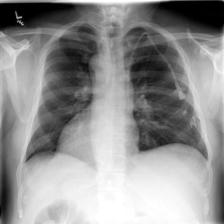normal: (16, 19, 214, 175)
